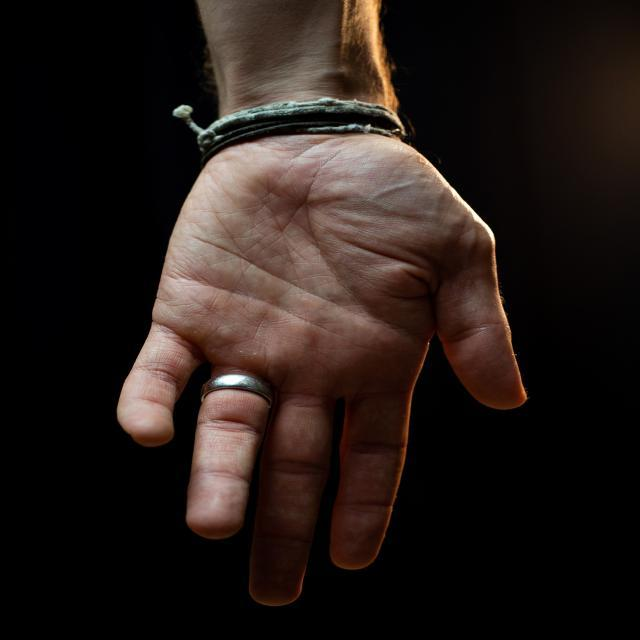no-gloves: (113, 141, 529, 606)
